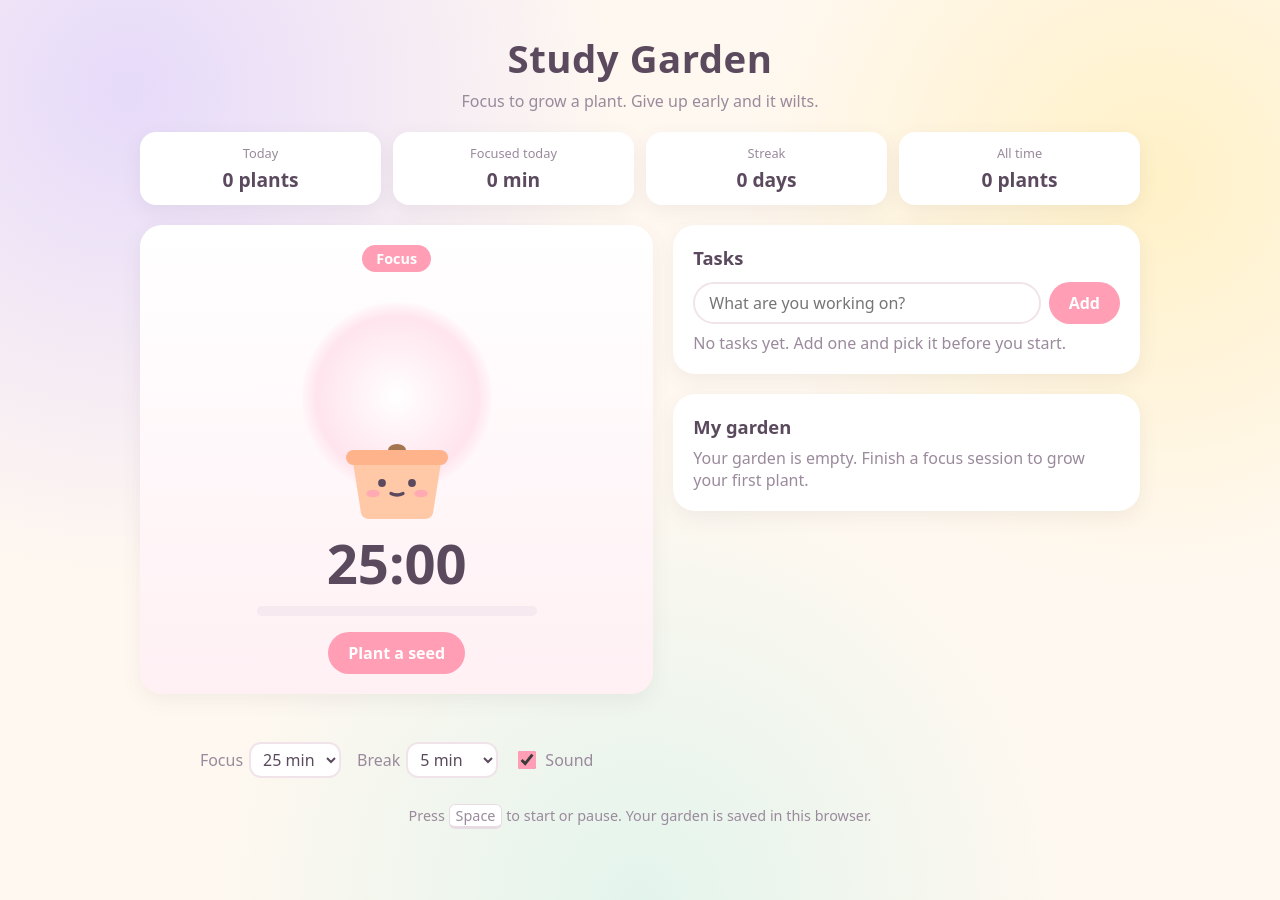
Test case: App › pauses and resumes without losing time
Click the button "Plant a seed" at {"x": 397, "y": 653}, box [328,632,465,674]
Wait 60000 ms
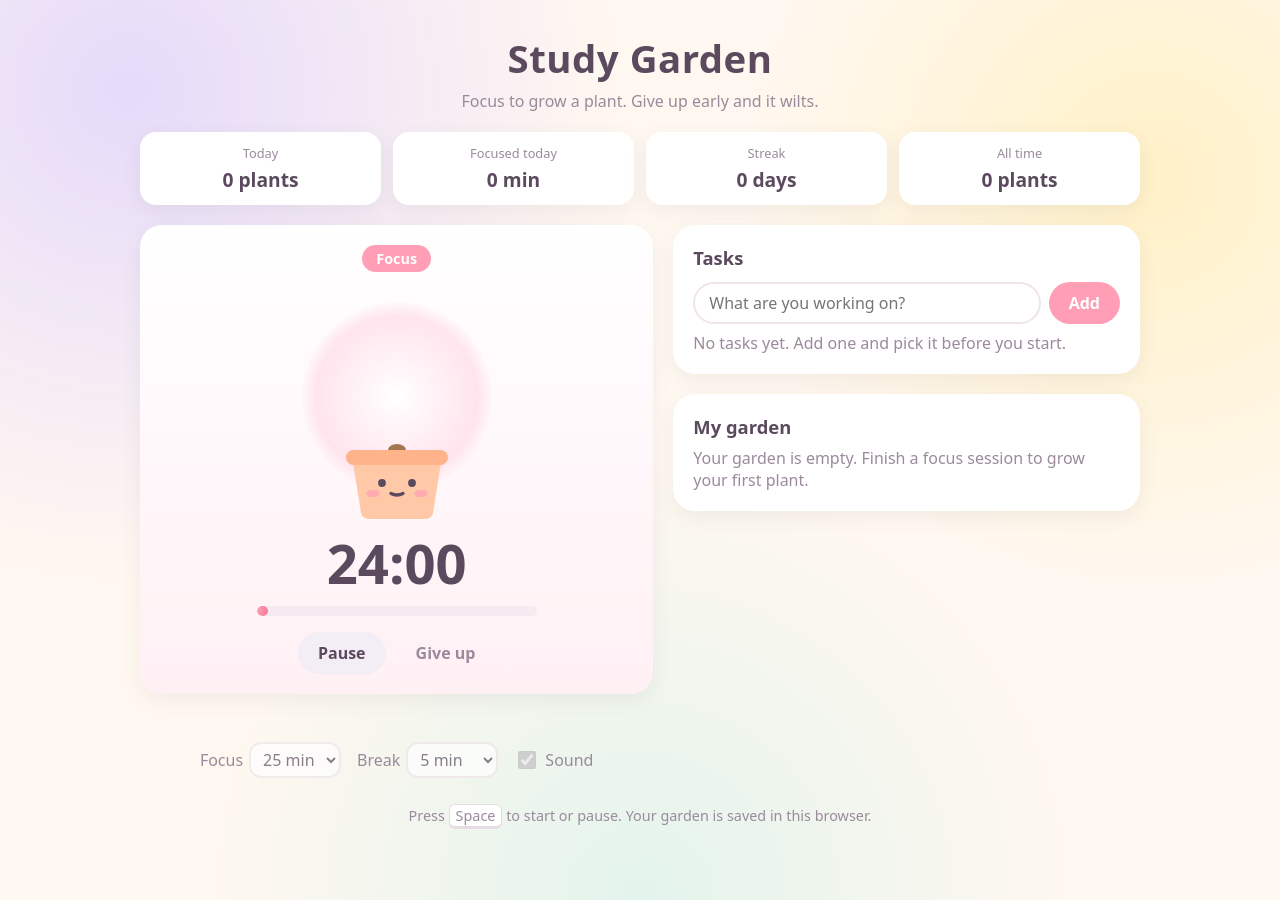
Click the button "Pause" at {"x": 342, "y": 653}, box [298,632,386,674]
Wait 600000 ms
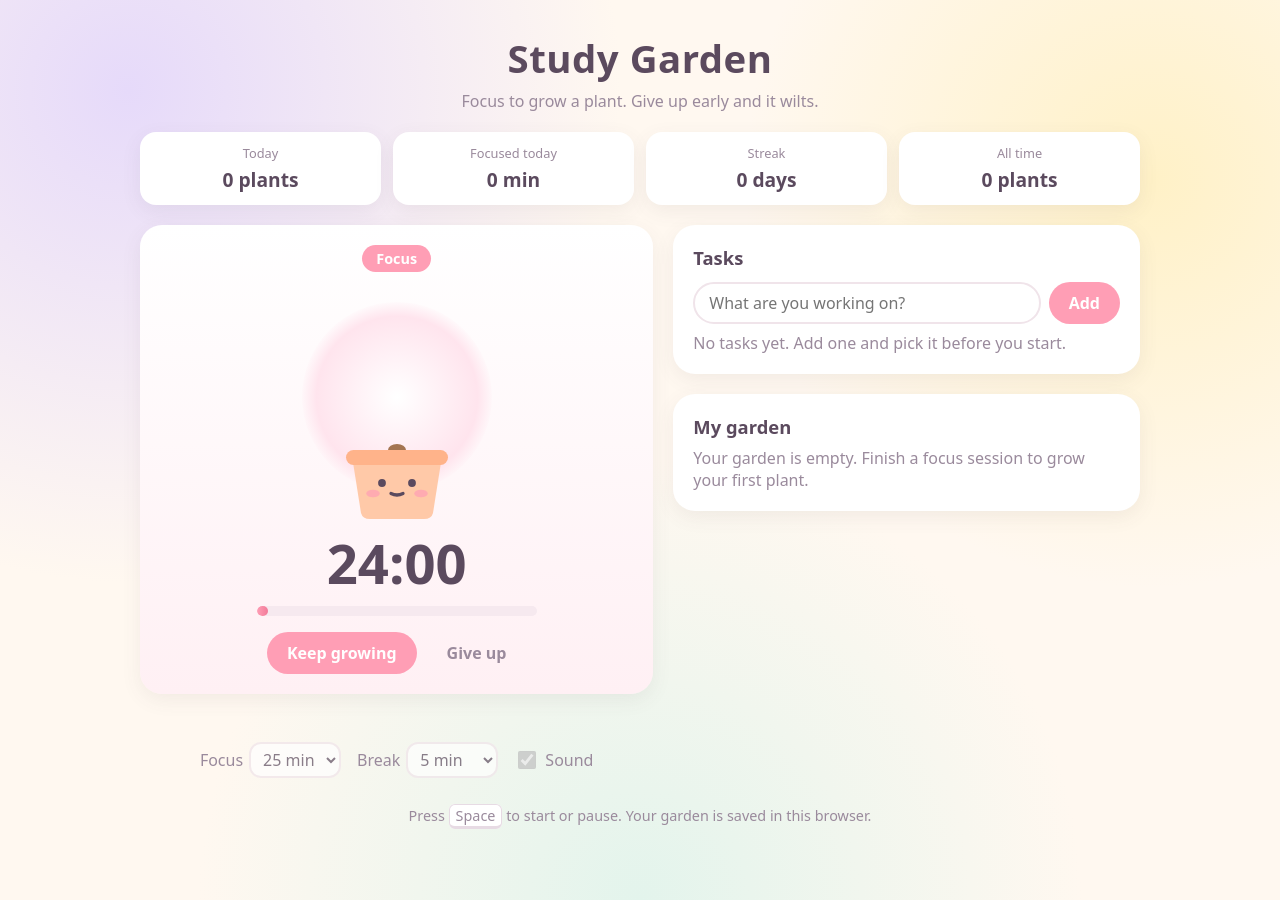
Result: the text "24:00" is shown at [327,526,467,600]
Click the button "Keep growing" at {"x": 342, "y": 653}, box [267,632,417,674]
Wait 60000 ms
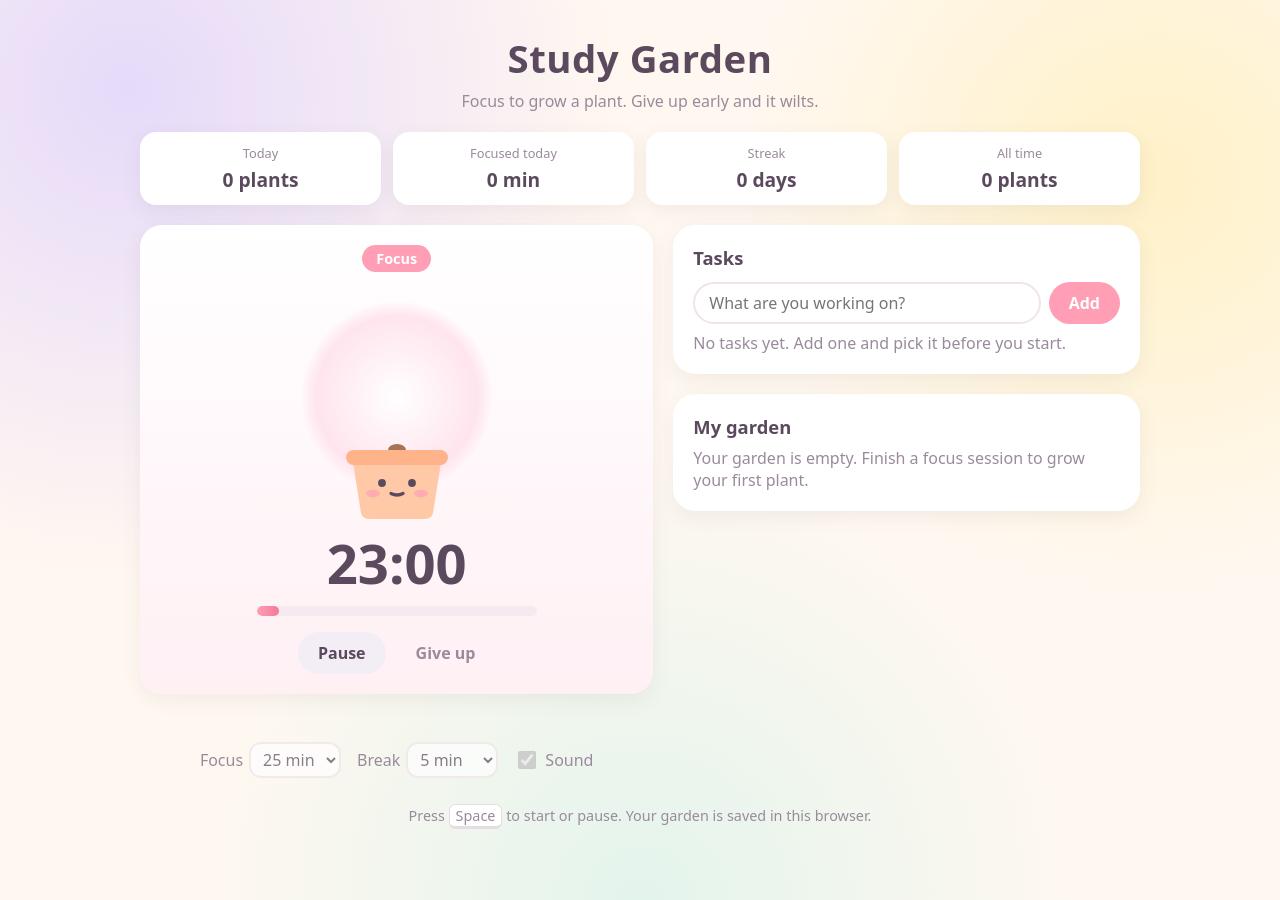
Result: the text "23:00" is shown at [327,526,467,600]
